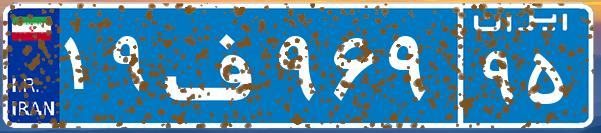1: (57, 26, 110, 107)
5: (525, 38, 570, 115)
6: (330, 28, 385, 110)
9: (385, 28, 445, 110), (273, 28, 330, 110), (475, 38, 525, 113), (110, 28, 158, 105)
ف: (158, 15, 273, 115)
